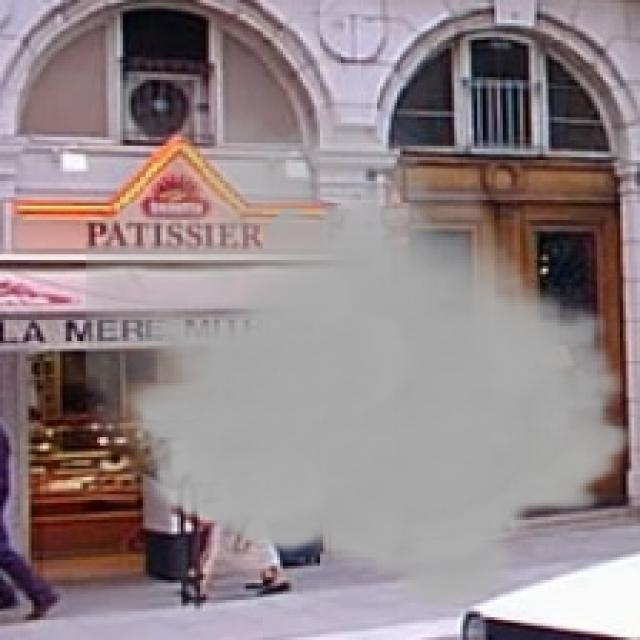Smoke: (85, 91, 638, 612)
